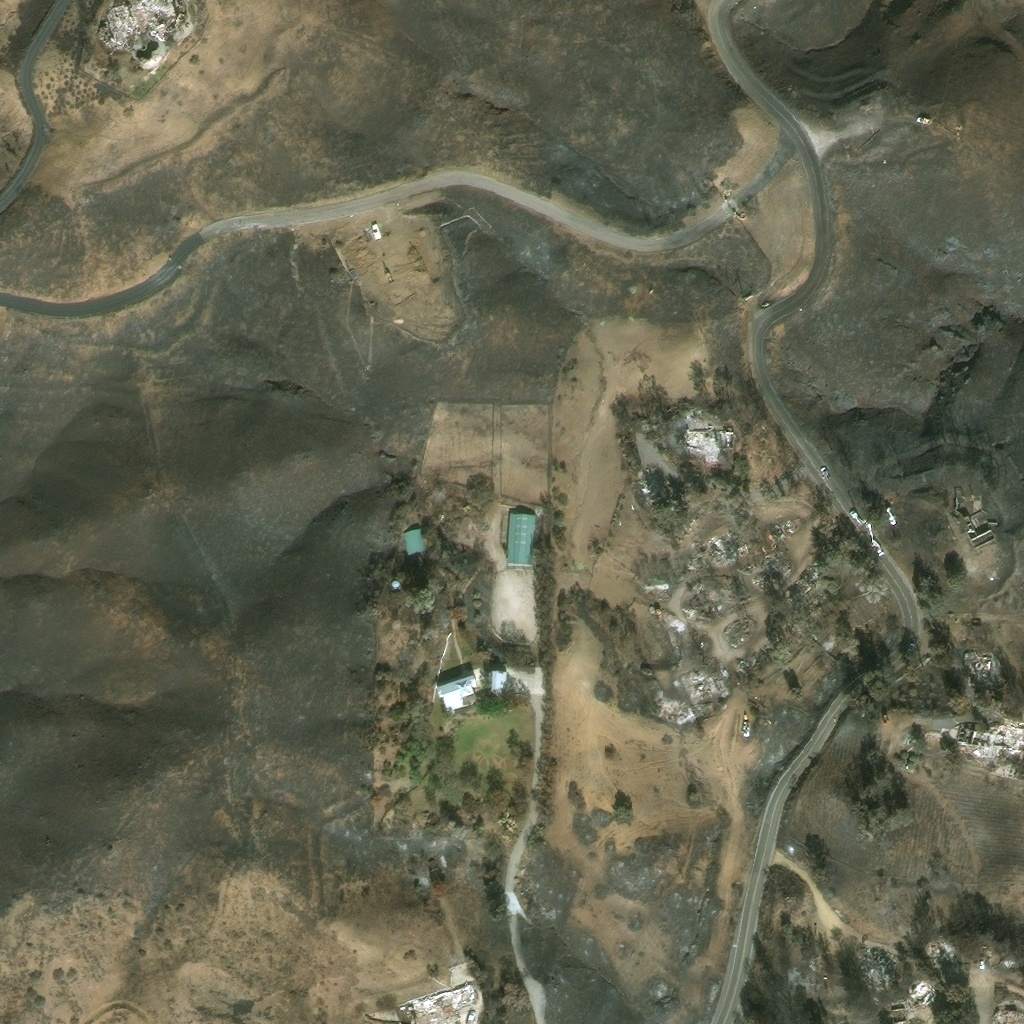0 no-damage: (436, 670, 477, 712), (506, 512, 536, 566), (402, 529, 426, 556), (488, 670, 506, 694), (390, 580, 400, 590)
3 destroyed: (95, 0, 183, 49), (398, 981, 475, 1023), (781, 550, 836, 602), (886, 977, 938, 1023), (854, 945, 899, 989), (684, 425, 734, 463), (956, 721, 998, 759), (788, 592, 830, 628), (709, 525, 747, 563), (767, 513, 803, 544), (968, 651, 994, 687), (993, 721, 1021, 750), (742, 644, 773, 669), (993, 1005, 1023, 1023), (896, 751, 916, 771), (650, 472, 667, 494), (752, 568, 772, 586), (821, 629, 839, 648), (683, 409, 702, 426), (926, 943, 948, 957), (639, 480, 654, 496), (652, 587, 670, 598), (348, 257, 363, 270), (806, 954, 819, 968), (686, 606, 699, 619), (719, 681, 731, 695), (736, 659, 747, 672), (903, 736, 915, 747), (813, 963, 823, 973), (740, 543, 749, 553), (733, 618, 741, 627), (690, 672, 699, 680), (722, 705, 727, 709)
